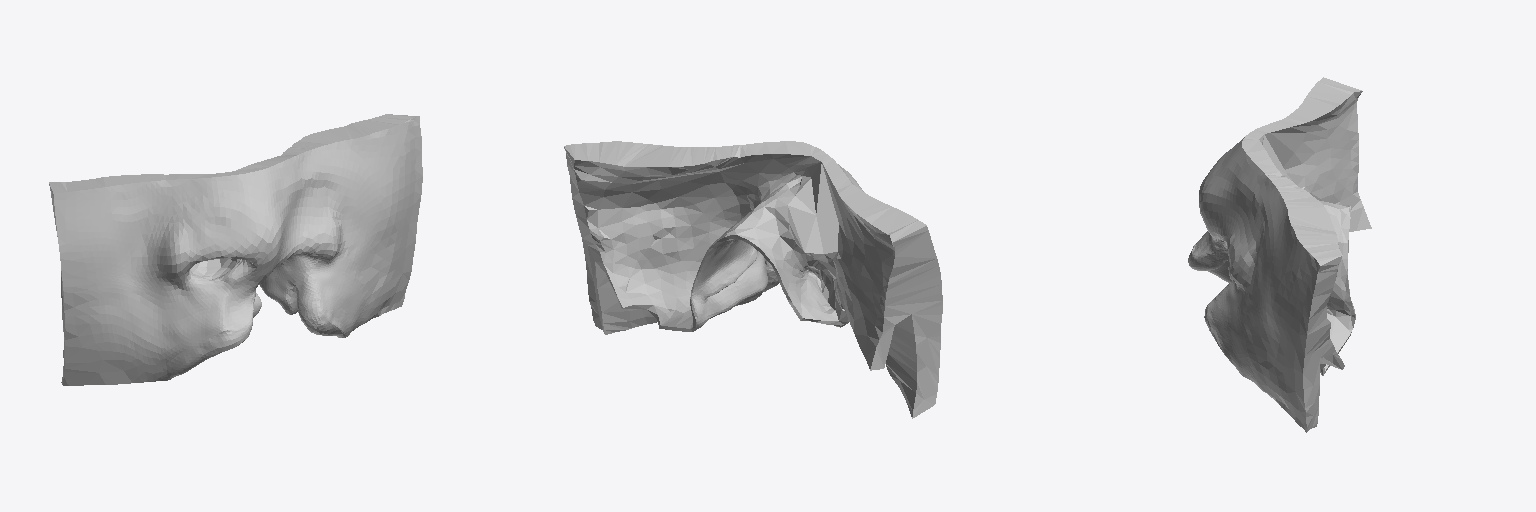
The model's file is unilatCompleteCleft.obj.
3 renders of one model, left to right at view 1: azimuth 30°, elevation 25°; view 2: azimuth 150°, elevation 25°; view 3: azimuth 270°, elevation 25°, orthographic.
Parts seen in each view (by area): view 1: objMat.003; view 2: objMat.003; view 3: objMat.003.
Part boxes in pixels (bbox=[...]): objMat.003: bbox=[49, 114, 422, 385]; objMat.003: bbox=[564, 141, 942, 418]; objMat.003: bbox=[1188, 77, 1371, 432].
Bounding box in the file's own units: 4.23 × 2.27 × 1.83.